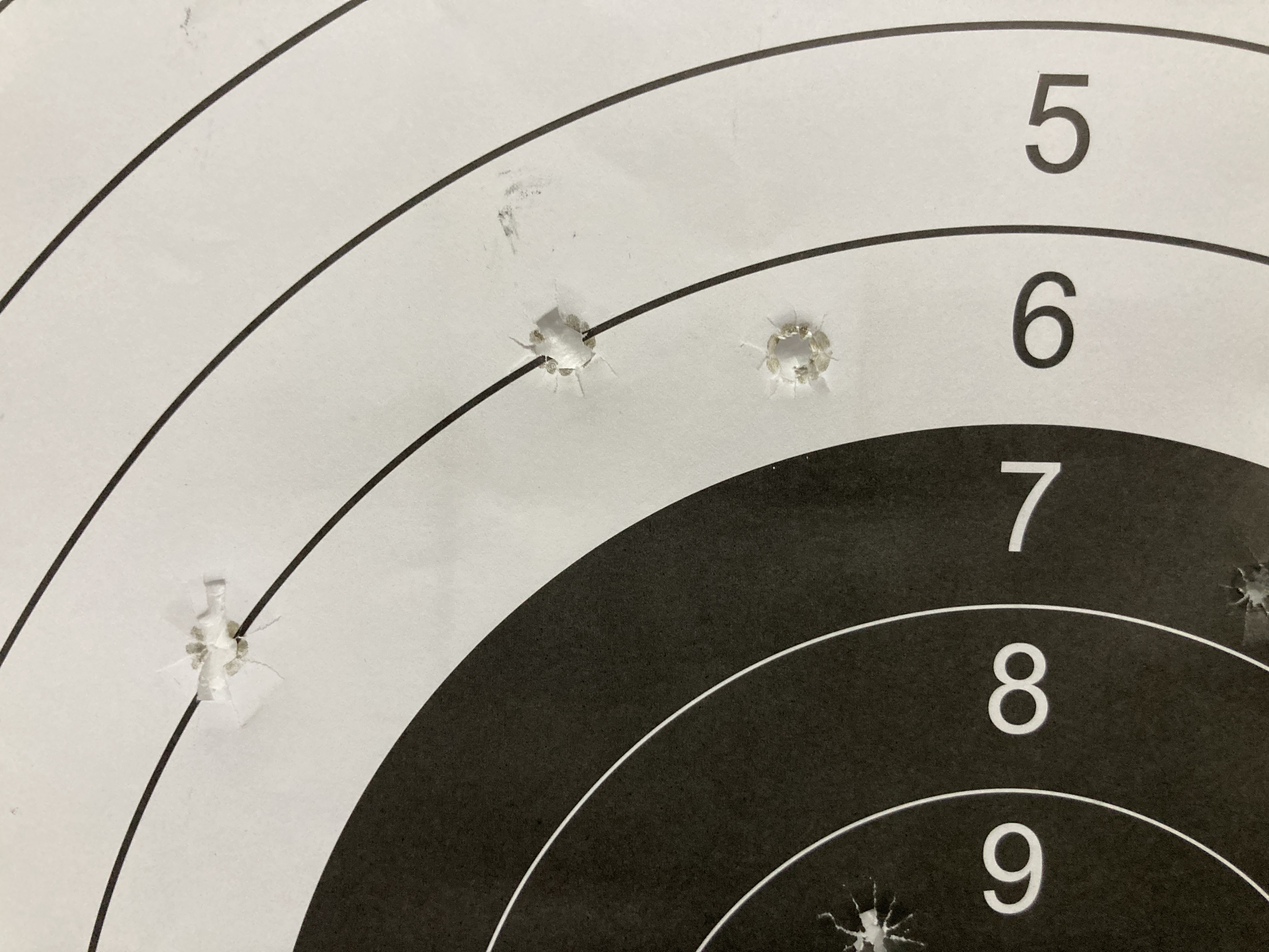hole: (167, 595, 286, 705), (513, 283, 614, 390), (743, 296, 843, 394), (809, 881, 947, 952), (1227, 548, 1269, 645)
